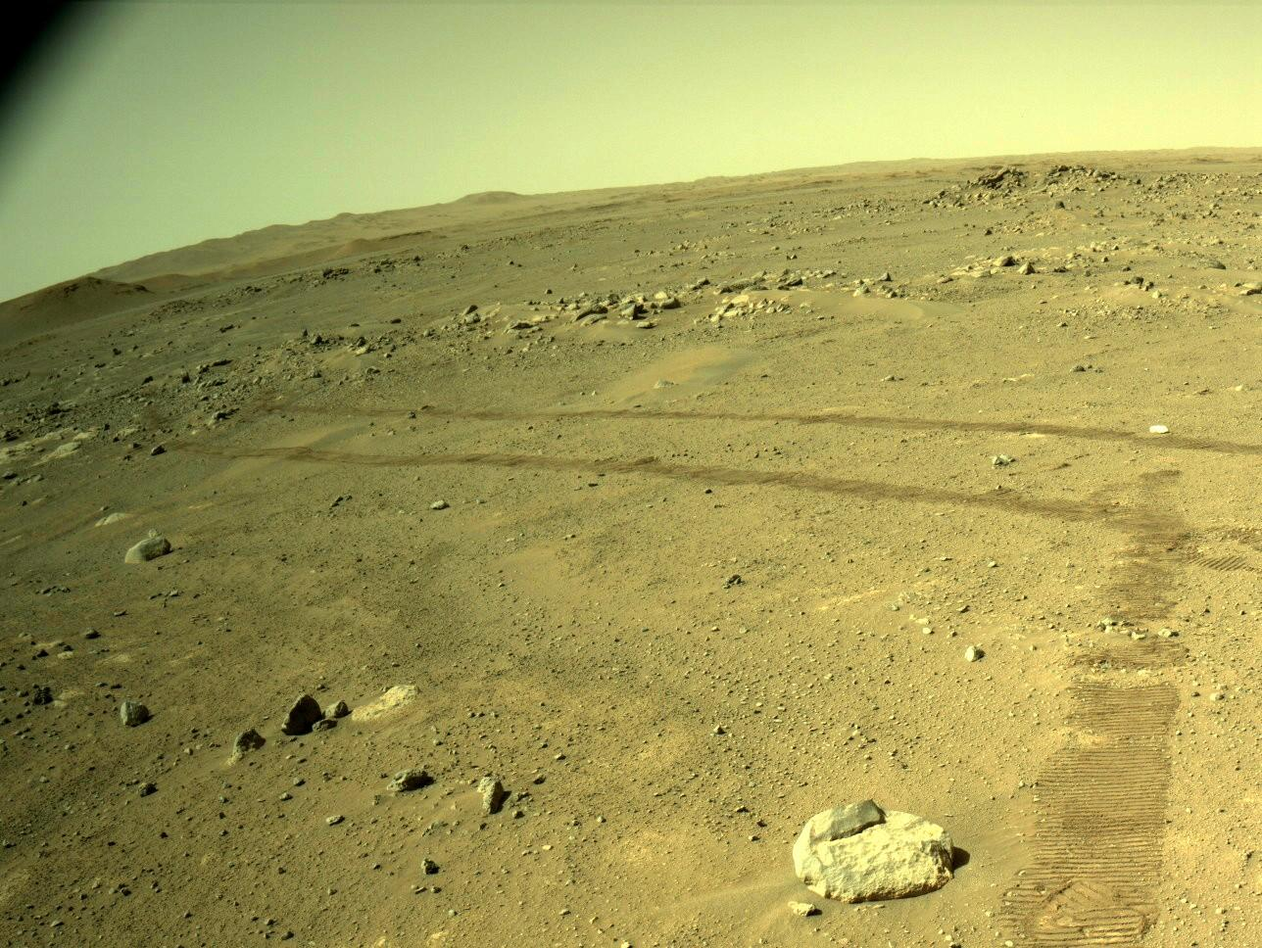bedrock: (7, 251, 490, 487), (616, 237, 1241, 333), (46, 231, 531, 335), (569, 280, 757, 317), (6, 349, 12, 437), (1251, 291, 1256, 309), (463, 317, 476, 323)
big_rock: (961, 153, 1202, 167)
soil: (1, 304, 1258, 947), (151, 160, 1256, 367), (13, 435, 21, 458), (244, 413, 266, 421), (13, 341, 24, 347), (1242, 272, 1244, 299)
